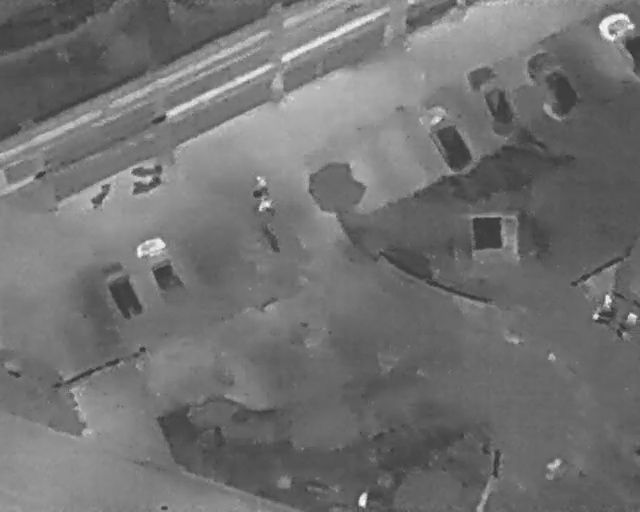Bicycle: (85, 178, 113, 213), (128, 174, 163, 198), (129, 163, 163, 179)
Car: (519, 43, 587, 126), (462, 57, 526, 139), (415, 100, 480, 179), (131, 232, 189, 305), (96, 256, 148, 325), (598, 10, 639, 78)
Person: (252, 194, 276, 217), (254, 172, 265, 188)
